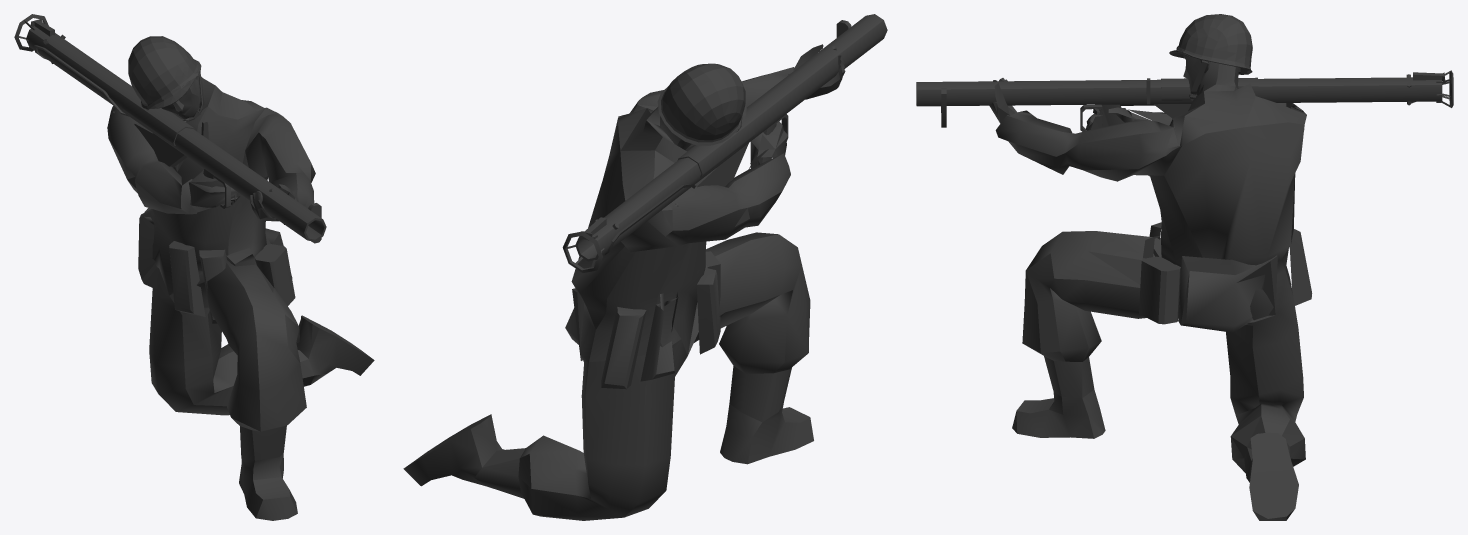
File: us_bazooka_acc.glb
The picture shows the model from 3 angles, left to right: view 1: azimuth 30°, elevation 25°; view 2: azimuth 150°, elevation 25°; view 3: azimuth 270°, elevation 25°; orthographic projection. The views are drawn at different scales.
Parts seen in each view (by area): view 1: Object.004_Object.017_2; view 2: Object.004_Object.017_2; view 3: Object.004_Object.017_2.
Part boxes in pixels (x1,y1,x2,y2): Object.004_Object.017_2: (14,14,374,520); Object.004_Object.017_2: (403,14,887,520); Object.004_Object.017_2: (916,14,1453,520).
Bounding box in the file's own units: 0.2623 × 0.3787 × 0.4528.
Materials: 1 (1 with a texture image).
